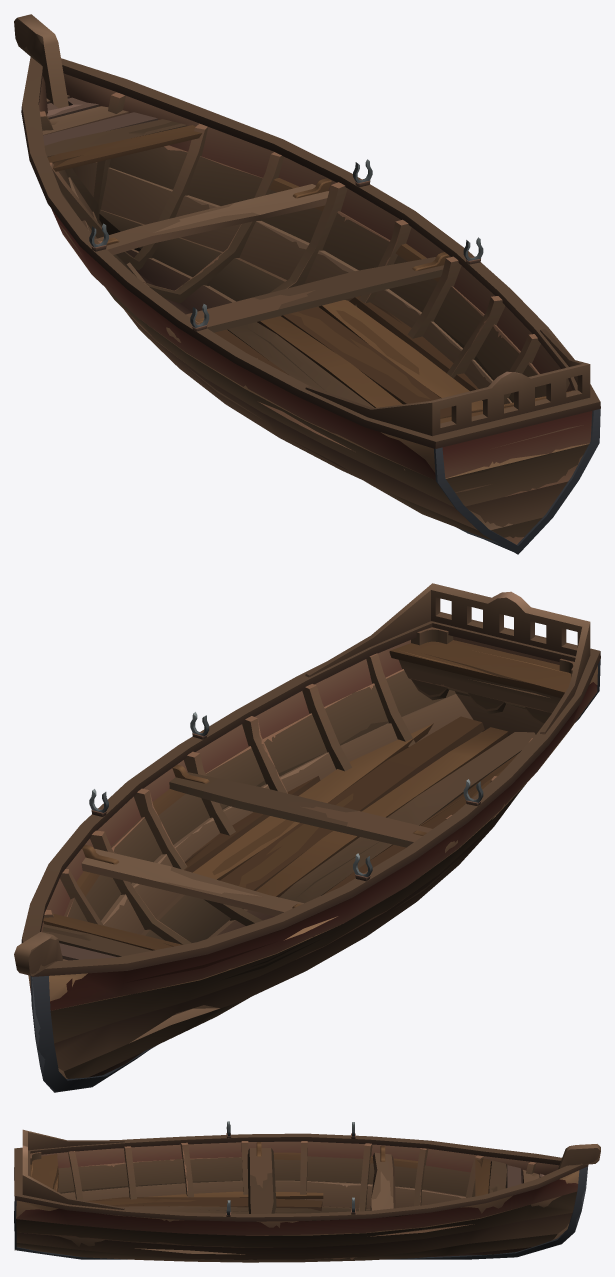
File: boat_1.glb
3 renders of one model, top to bottom at view 1: azimuth 30°, elevation 25°; view 2: azimuth 150°, elevation 25°; view 3: azimuth 270°, elevation 25°, orthographic. The views are drawn at different scales.
Parts seen in each view (by area): view 1: Boat_A; view 2: Boat_A; view 3: Boat_A.
Boxes of the visible parts, x1,y1,x2,y2 form: Boat_A: (14,14,600,554); Boat_A: (14,583,600,1092); Boat_A: (14,1121,600,1262).
Size of the model in its own units: 2.3 by 1.46 by 6.81.
Materials: 1 (1 with a texture image).
